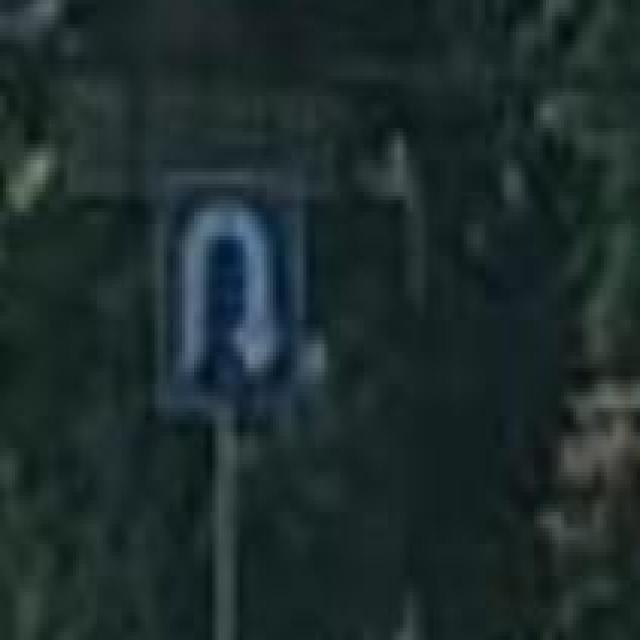traffic sign: (152, 172, 286, 404)
